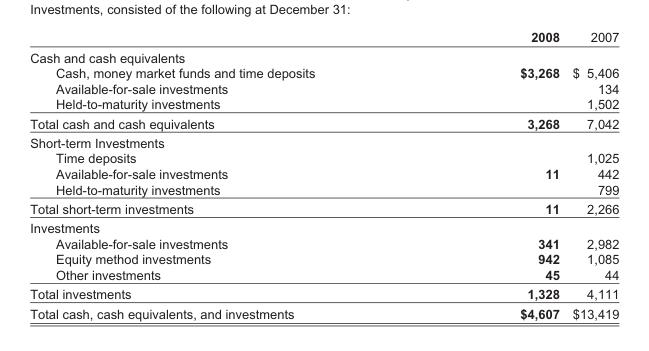table: (29, 28, 618, 320)
table column: (29, 28, 416, 320), (416, 28, 565, 320), (565, 28, 618, 320)
table column header: (29, 28, 618, 46)
table projected row header: (29, 46, 618, 64), (29, 132, 618, 150), (29, 217, 618, 235)
table row: (29, 283, 618, 303), (29, 113, 618, 132), (29, 198, 618, 217), (29, 28, 618, 46), (29, 46, 618, 64), (29, 95, 618, 113), (29, 132, 618, 150), (29, 217, 618, 235), (29, 181, 618, 198), (29, 266, 618, 283), (29, 303, 618, 320), (29, 64, 618, 80), (29, 165, 618, 181), (29, 250, 618, 266), (29, 80, 618, 95), (29, 150, 618, 165), (29, 235, 618, 250)
